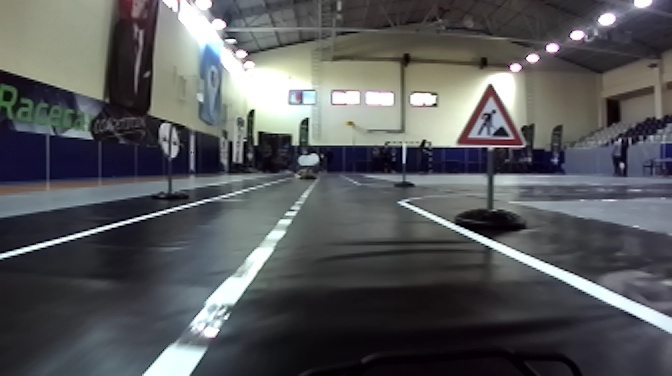yol_yapimi: (446, 81, 532, 148)
